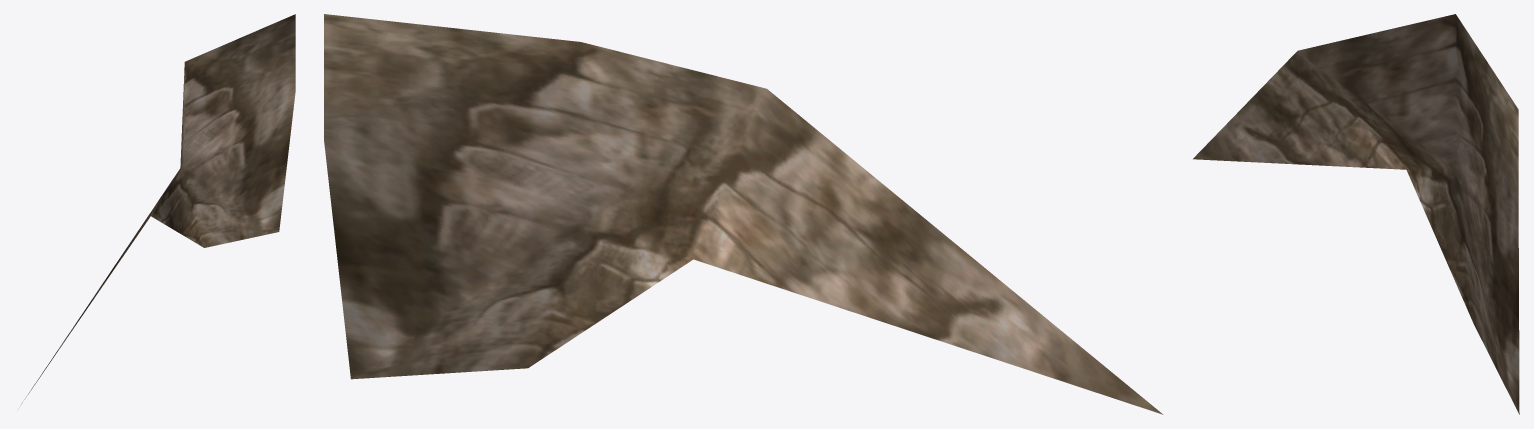
Rendered from OVERHILL_A_01_LINE20.fbx.
3 renders of one model, left to right at view 1: azimuth 30°, elevation 25°; view 2: azimuth 150°, elevation 25°; view 3: azimuth 270°, elevation 25°, orthographic. The views are drawn at different scales.
Visible parts, largest first — view 1: OVERHILL_A_01_LINE20; view 2: OVERHILL_A_01_LINE20; view 3: OVERHILL_A_01_LINE20.
Boxes of the visible parts, x1,y1,x2,y2 form: OVERHILL_A_01_LINE20: (21, 14, 295, 404); OVERHILL_A_01_LINE20: (324, 14, 1163, 414); OVERHILL_A_01_LINE20: (1193, 14, 1519, 414).
Size of the model in its own units: 44867 by 24594 by 21905.
Materials: 1 (1 with a texture image).
